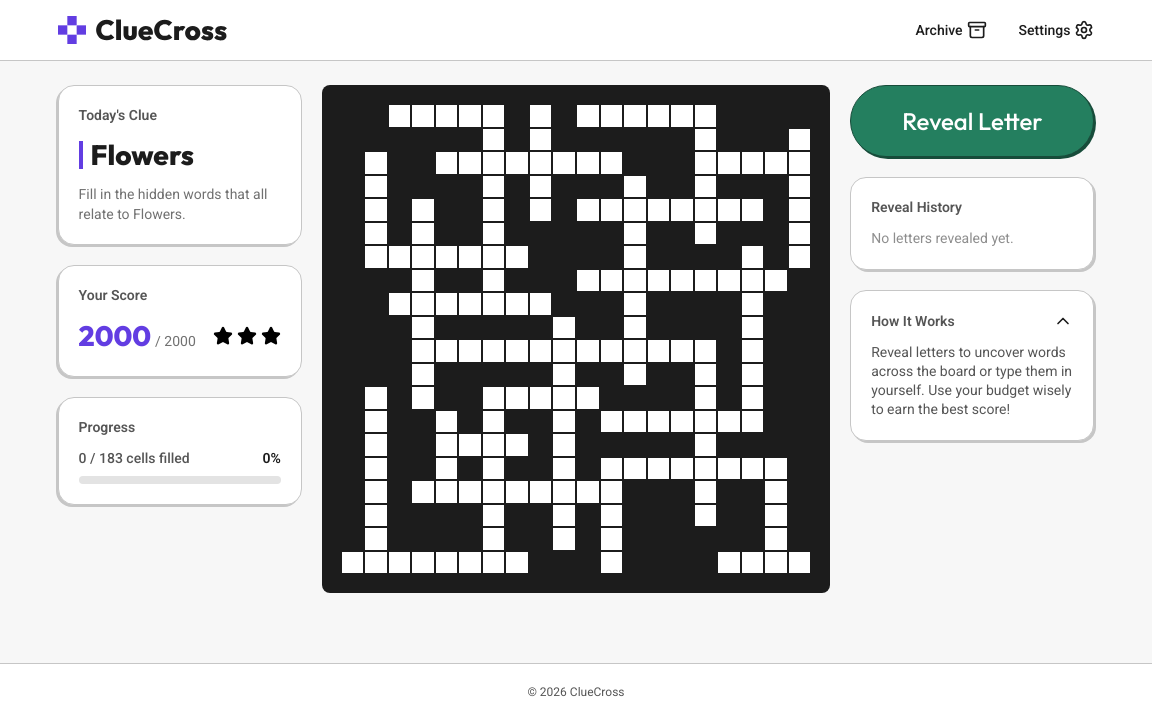
Test: App with the "Flower" puzzle › shows one green dot per free reveal left beside the caption, counting down to none
The image size is (1152, 720).
What coordinates should you click on to do the following:
click the button "Reveal Letter"
I would click on:
 (972, 121)
Its box is [850,85,1094,157].
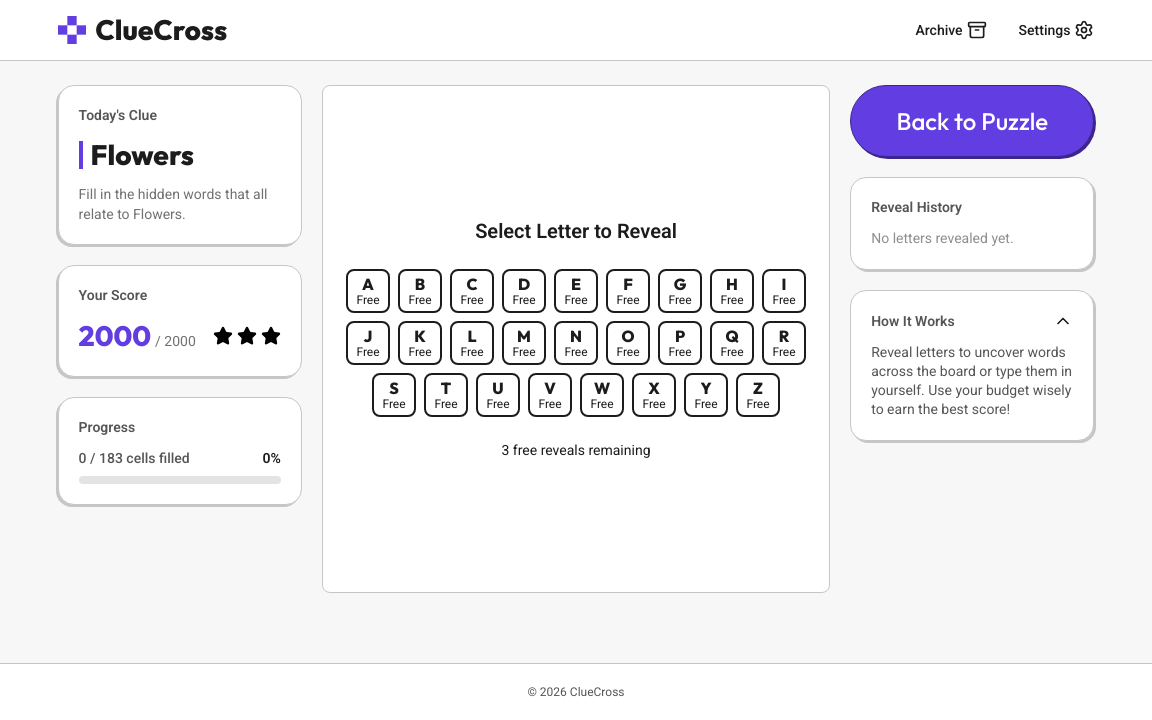
What coordinates should you click on to do the following:
click the button "J Free"
I would click on:
 (368, 343)
Its box is [346,321,390,365].
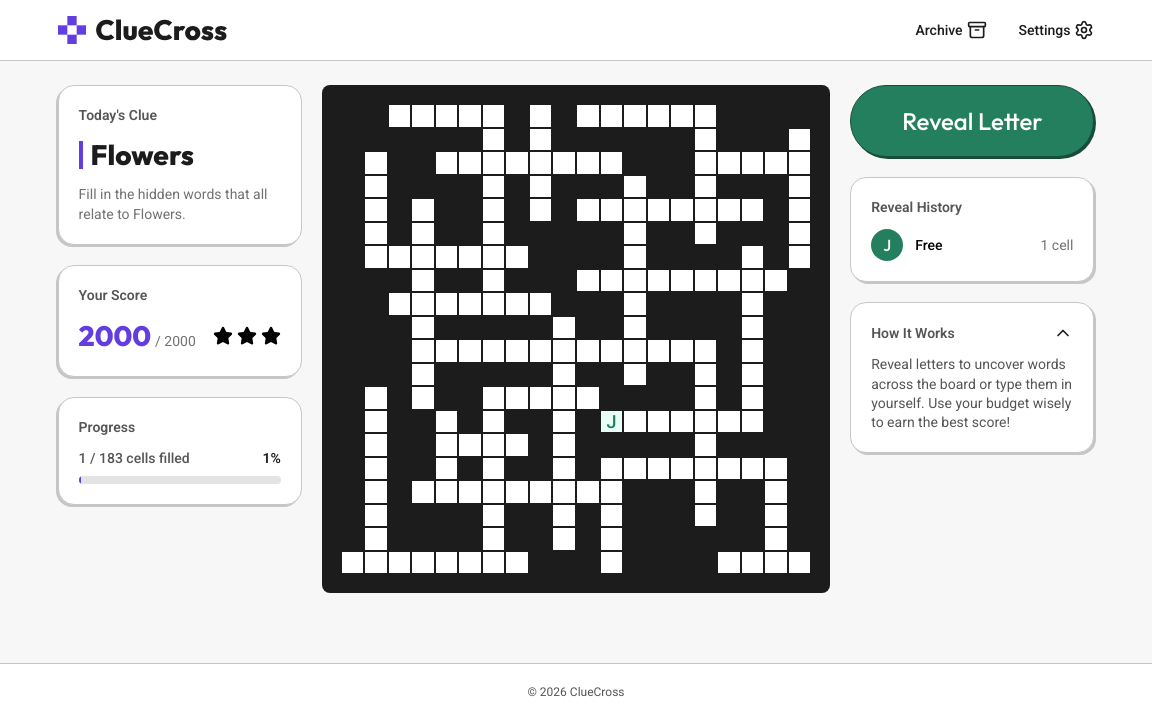
What coordinates should you click on to do the following:
click the button "Reveal Letter"
I would click on:
 (972, 121)
Its box is [850,85,1094,157].
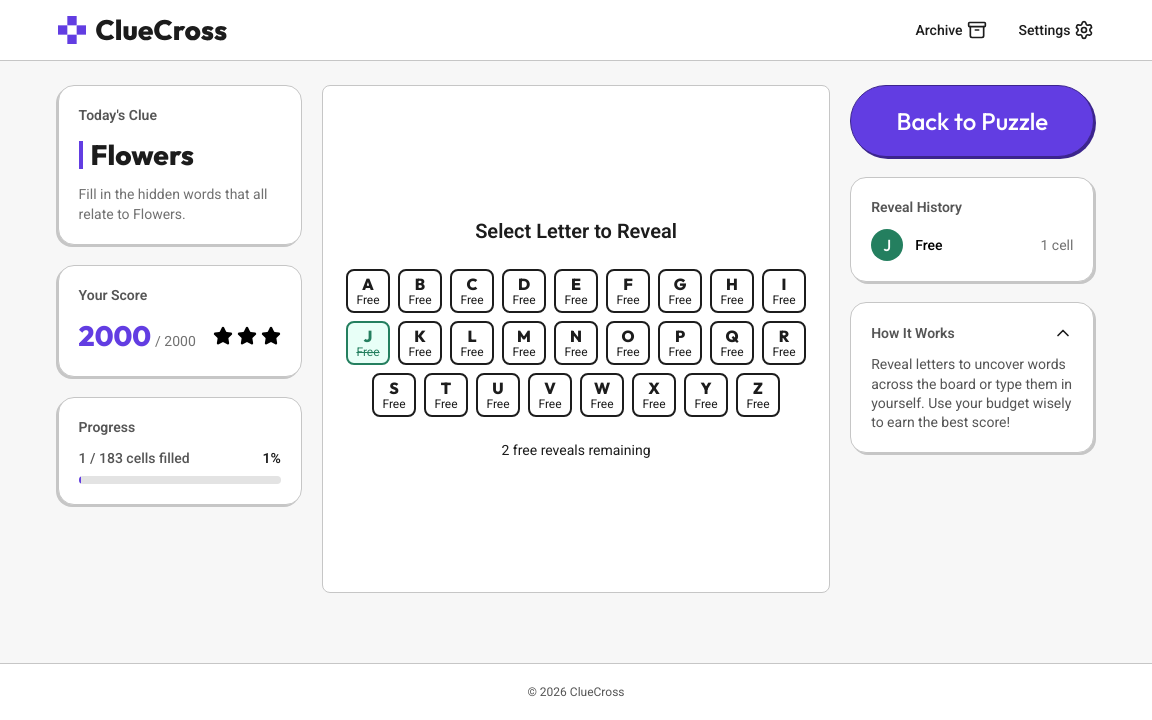
What coordinates should you click on to do the following:
click the button "K Free"
I would click on:
 (420, 343)
Its box is [398,321,442,365].
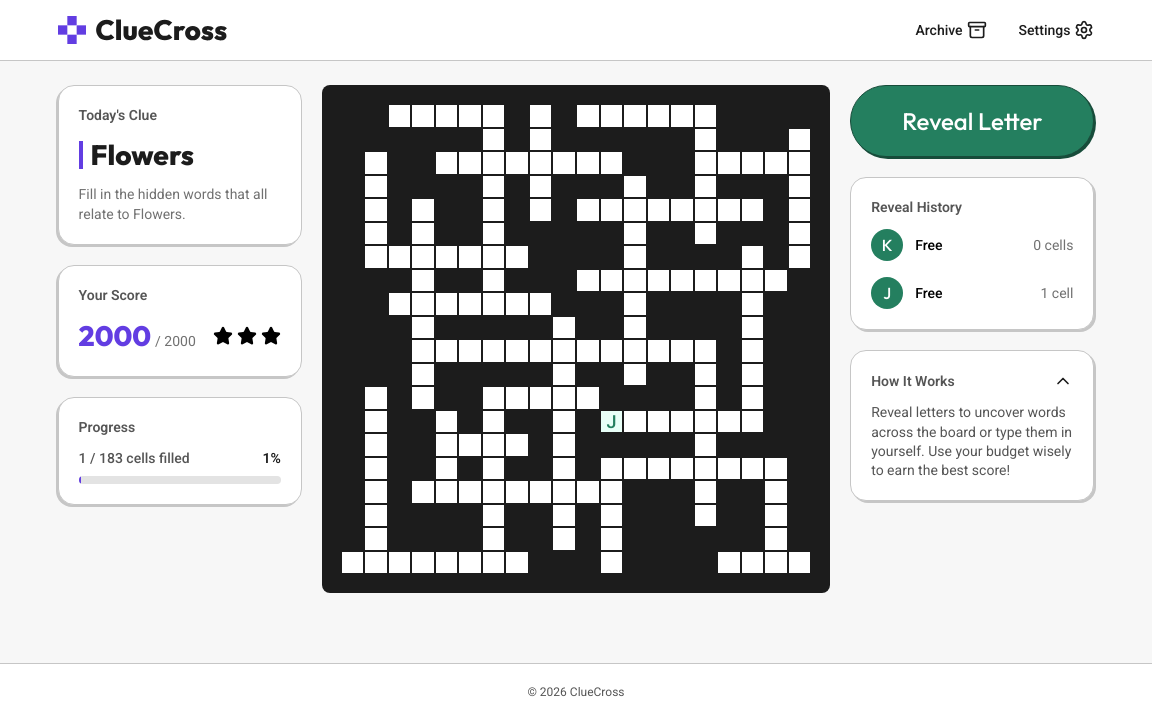
What coordinates should you click on to do the following:
click the button "Reveal Letter"
I would click on:
 (972, 121)
Its box is [850,85,1094,157].
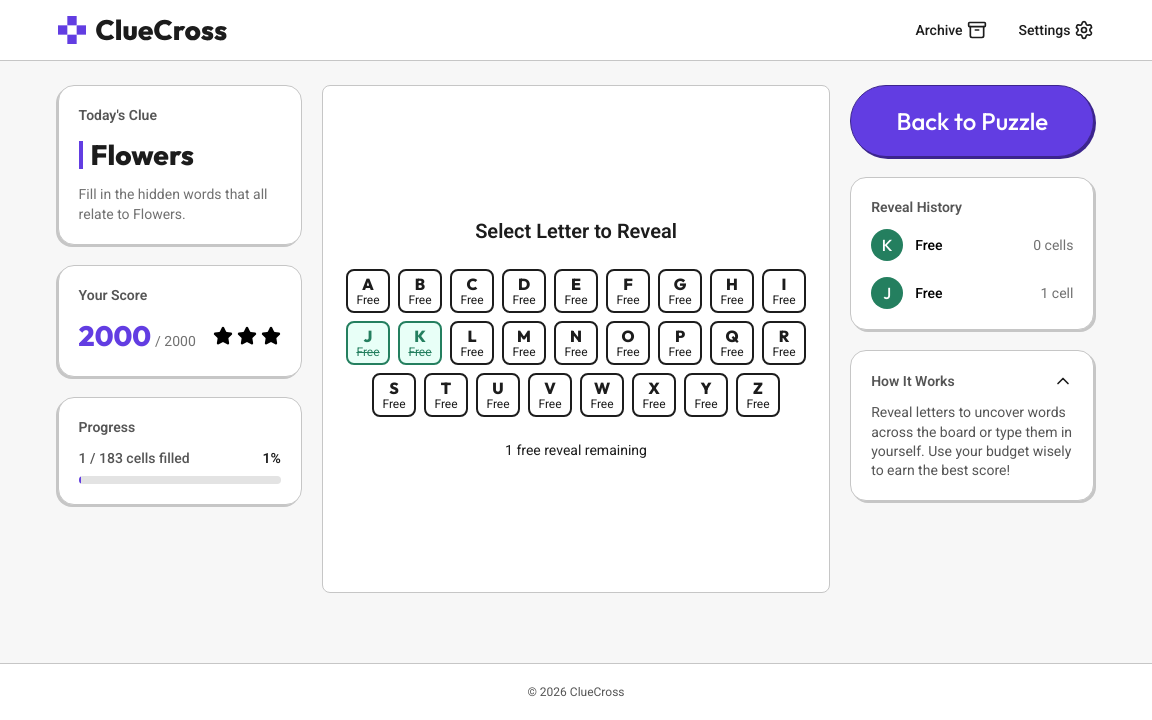
What coordinates should you click on to do the following:
click the button "L Free"
I would click on:
 (472, 343)
Its box is [450,321,494,365].
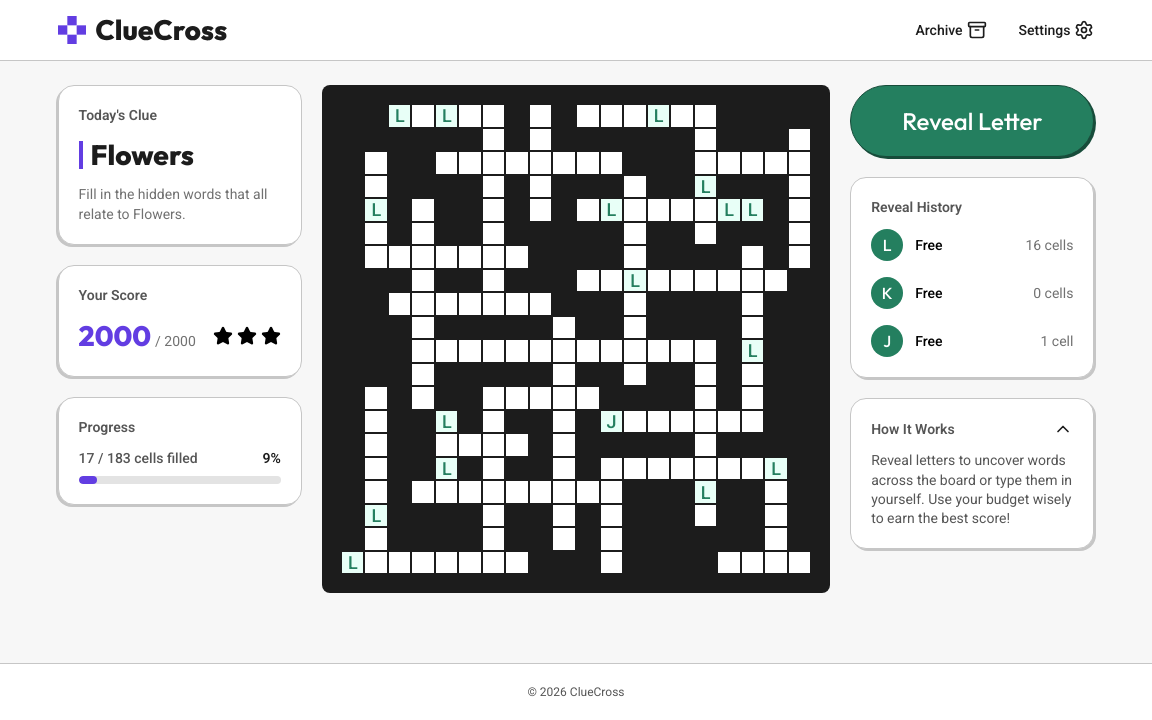
Check: the text "1 free reveal remaining" is gone
